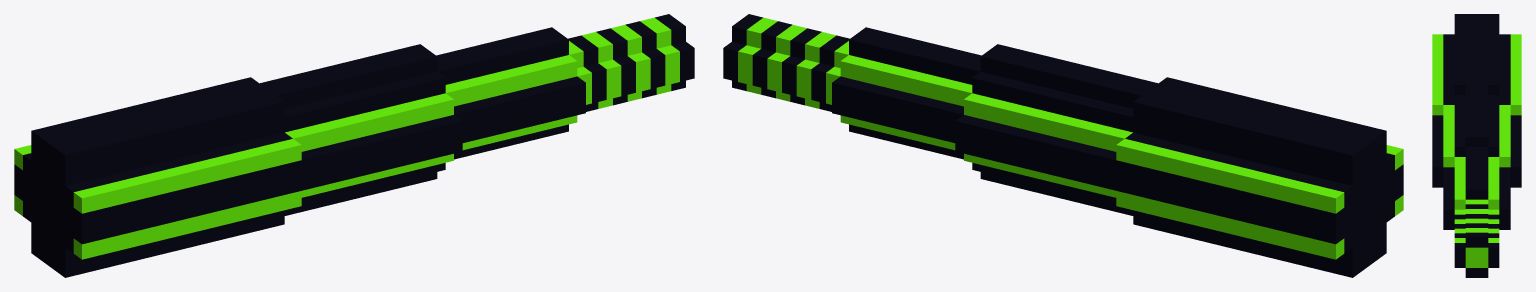
Rendered from TankPlayerMediumNeon-0.obj.
3 renders of one model, left to right at view 1: azimuth 30°, elevation 25°; view 2: azimuth 150°, elevation 25°; view 3: azimuth 270°, elevation 25°, orthographic. The views are drawn at different scales.
Size of the model in its own units: 4.3 by 0.8 by 0.8.
Materials: 1 (1 with a texture image).
